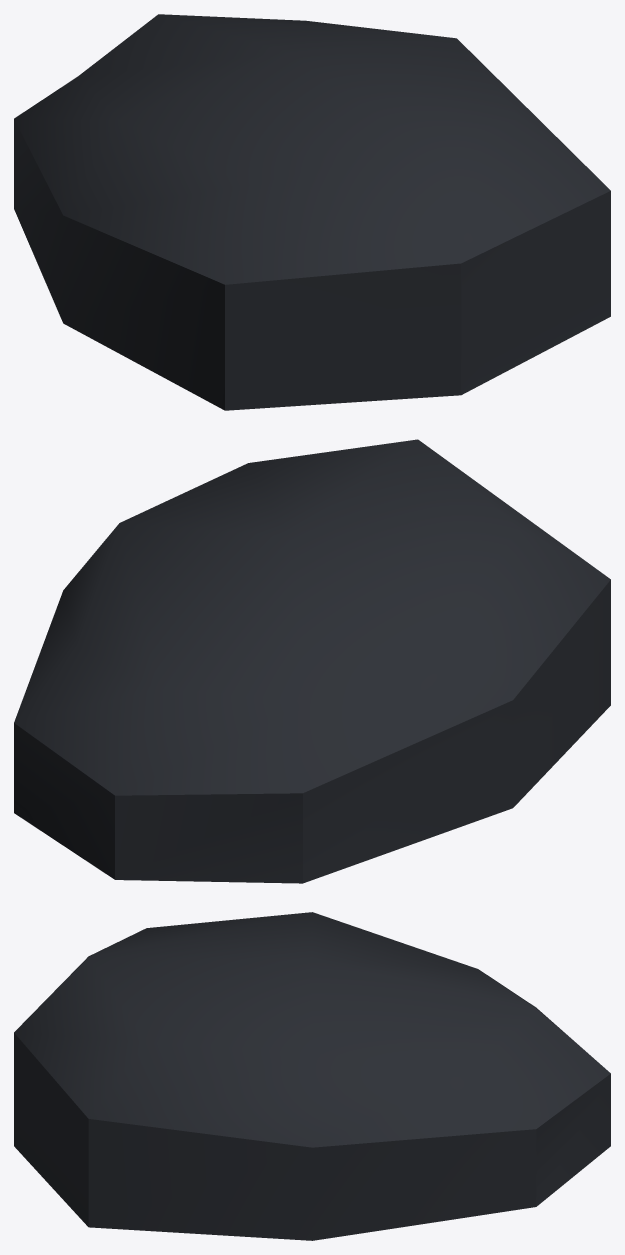
Rendered from mouse_cassino_pacote.glb.
3 renders of one model, top to bottom at view 1: azimuth 30°, elevation 25°; view 2: azimuth 150°, elevation 25°; view 3: azimuth 270°, elevation 25°, orthographic. The views are drawn at different scales.
Parts seen in each view (by area): view 1: mouse_cassino_pacote; view 2: mouse_cassino_pacote; view 3: mouse_cassino_pacote.
Boxes of the visible parts, x1,y1,x2,y2 form: mouse_cassino_pacote: [14, 14, 610, 410]; mouse_cassino_pacote: [14, 439, 610, 883]; mouse_cassino_pacote: [14, 912, 610, 1240].
Bounding box in the file's own units: 0.0831 × 0.0386 × 0.1107.
1 material, 1 textured.
